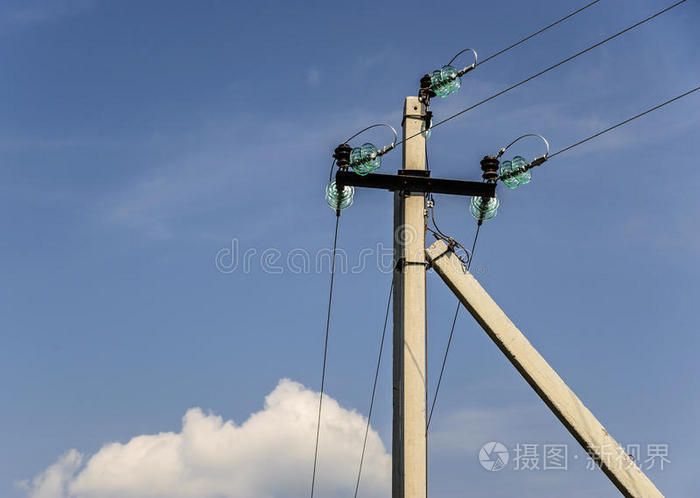insulator: (498, 158, 534, 190), (429, 66, 462, 98), (350, 142, 380, 176), (324, 183, 354, 212), (469, 193, 500, 220)
